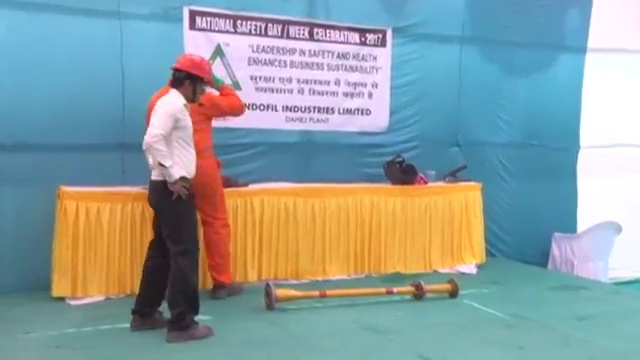helmet: (169, 50, 214, 84)
helmet_on: (168, 51, 214, 103)
person: (129, 56, 217, 344), (157, 57, 250, 301)
